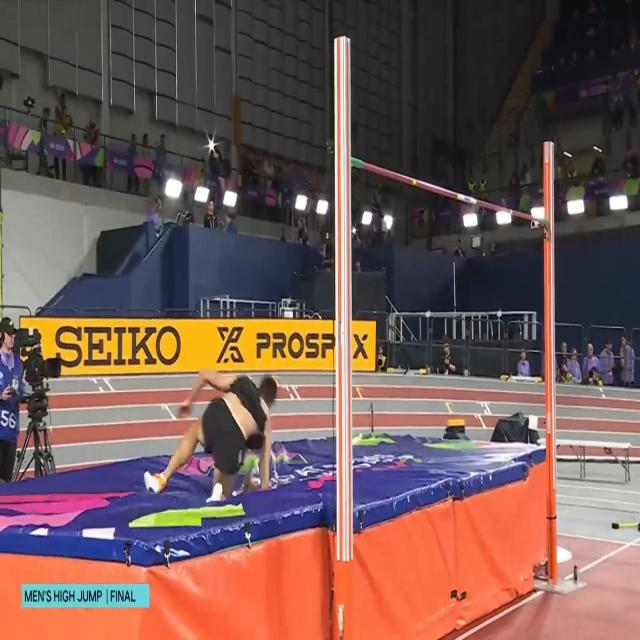land: (144, 367, 278, 506)
